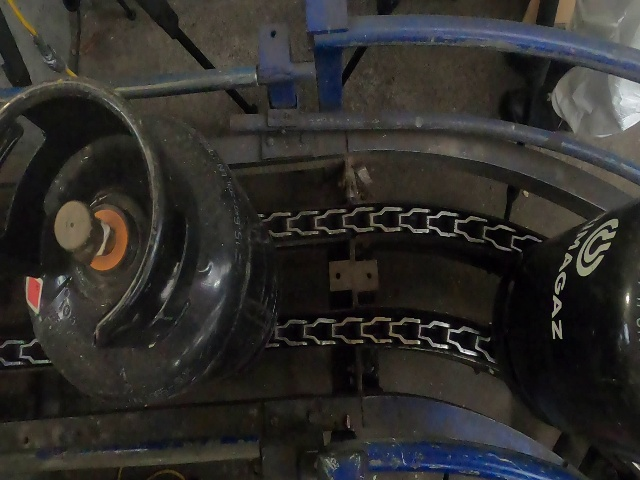gas_bottle: (2, 3, 634, 476)
